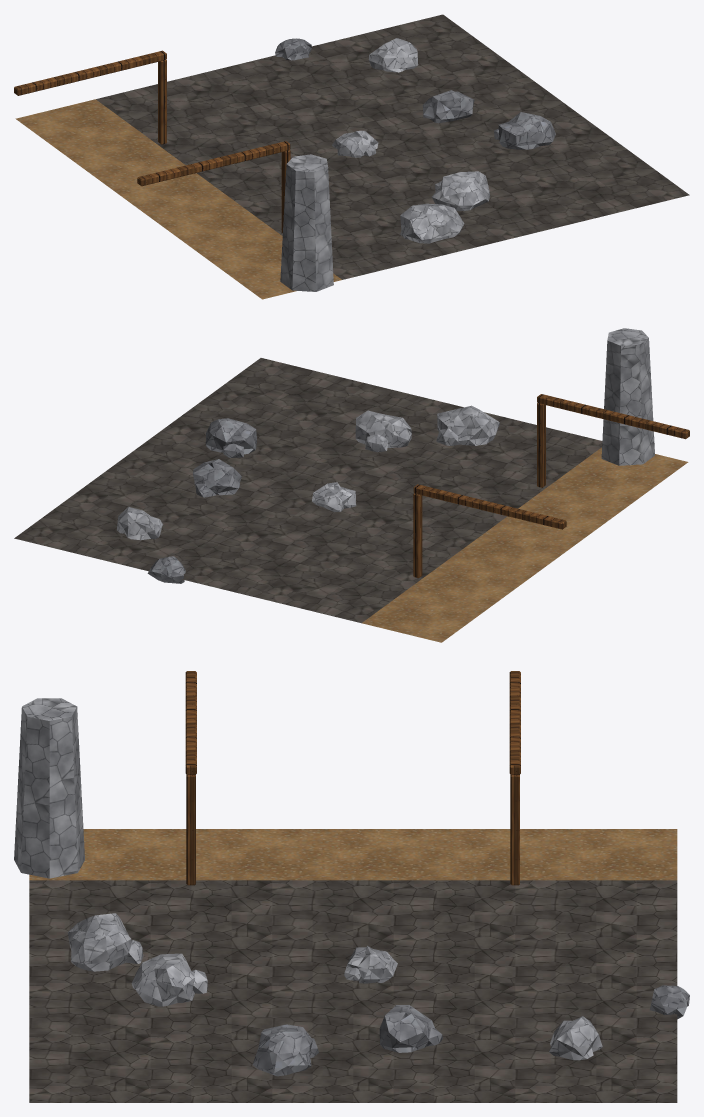
File: chunk_6_19.glb
The picture shows the model from 3 angles, top to bottom: view 1: azimuth 30°, elevation 25°; view 2: azimuth 150°, elevation 25°; view 3: azimuth 270°, elevation 25°; orthographic projection. The views are drawn at different scales.
Visible parts, largest first — view 1: chunk_6_19; view 2: chunk_6_19; view 3: chunk_6_19.
Part boxes in pixels (x1=…): chunk_6_19: x1=14, y1=14, x2=689, y2=299; chunk_6_19: x1=14, y1=328, x2=689, y2=642; chunk_6_19: x1=14, y1=671, x2=689, y2=1102.
Bounding box in the file's own units: 18.3 × 4.84 × 16.69.
6 materials, 6 textured.
